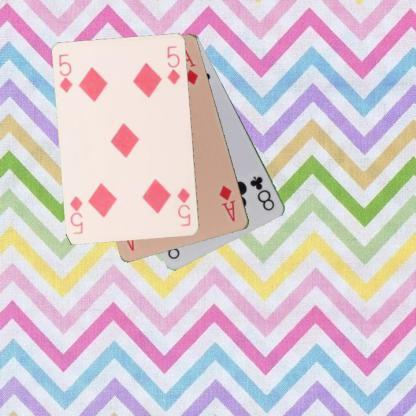5d: (56, 51, 74, 94), (174, 186, 192, 228)
8c: (247, 173, 276, 212)
Ad: (216, 182, 237, 224)
